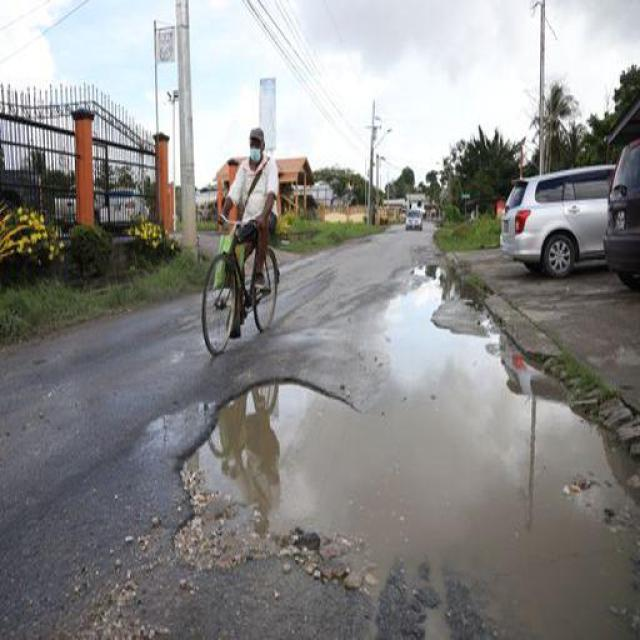puddle: (232, 384, 586, 569), (385, 297, 515, 640)
